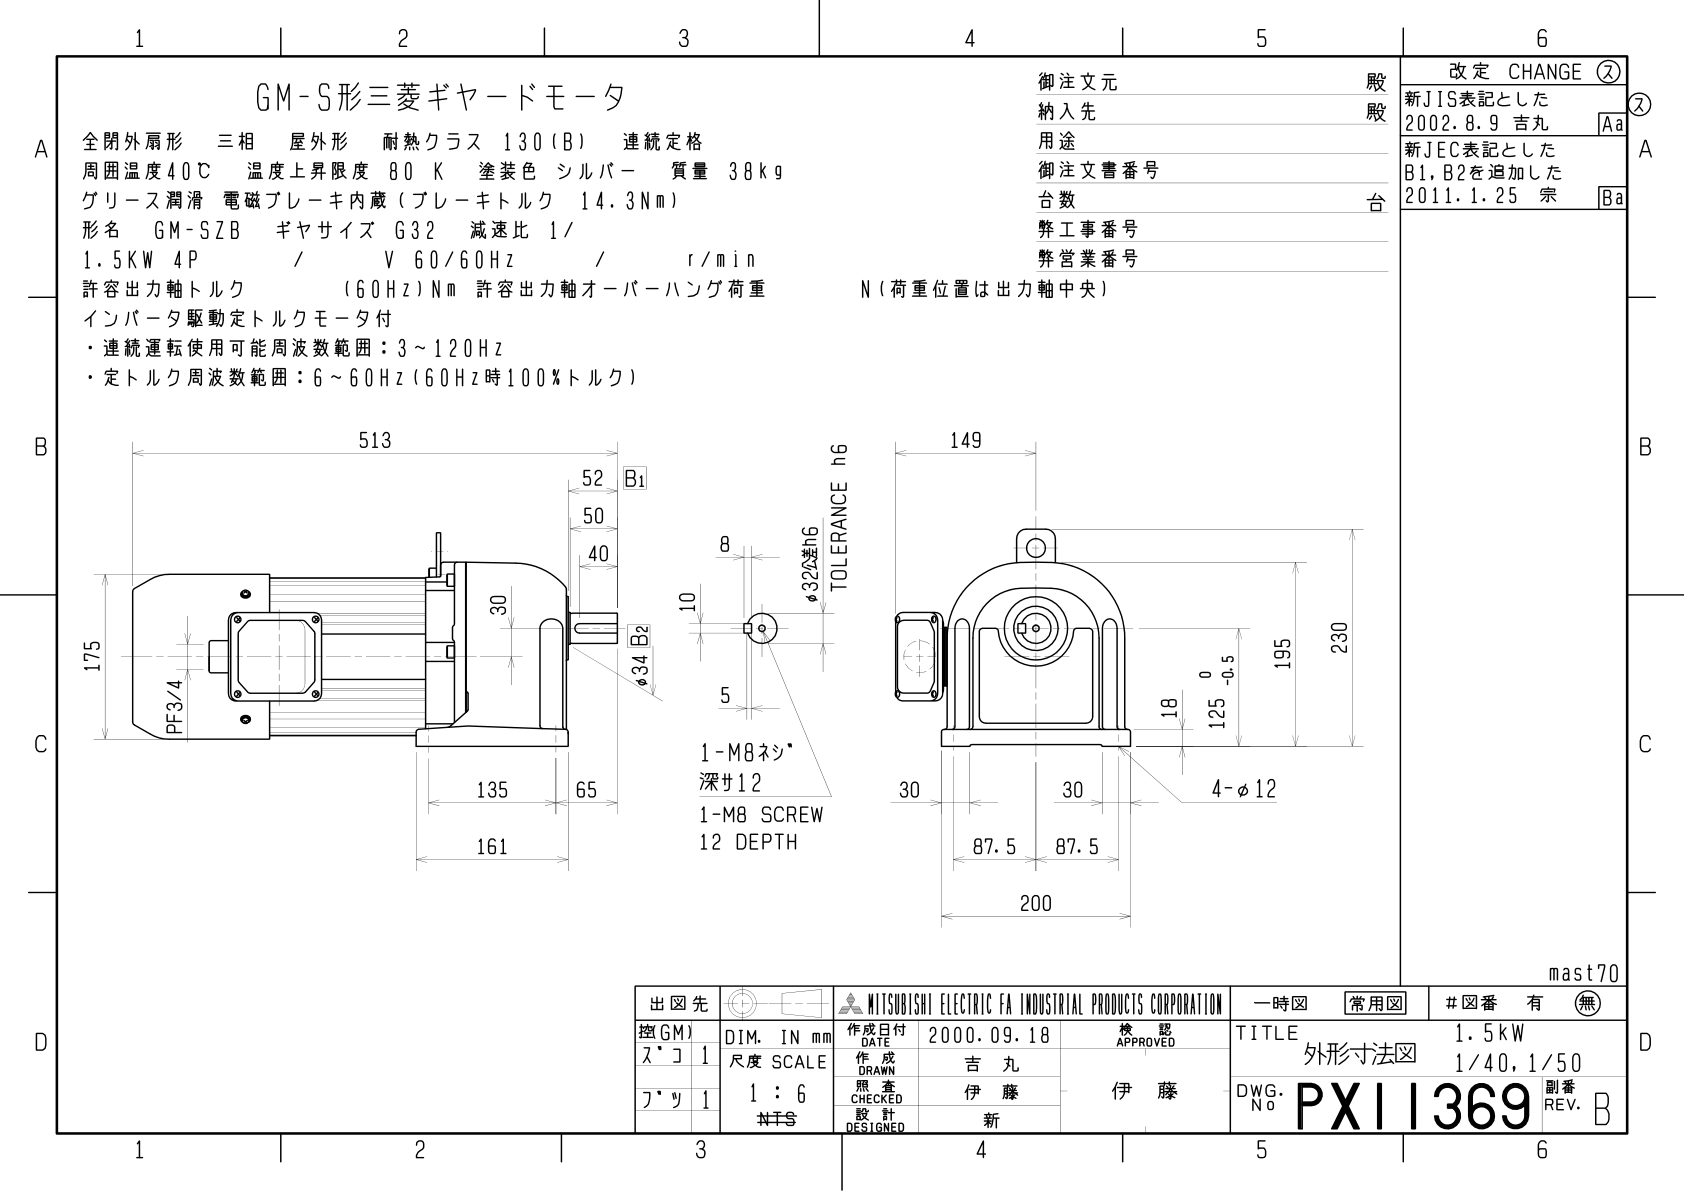GM_S_インバタ屋外＿三相_脚: (71, 418, 1379, 938)
